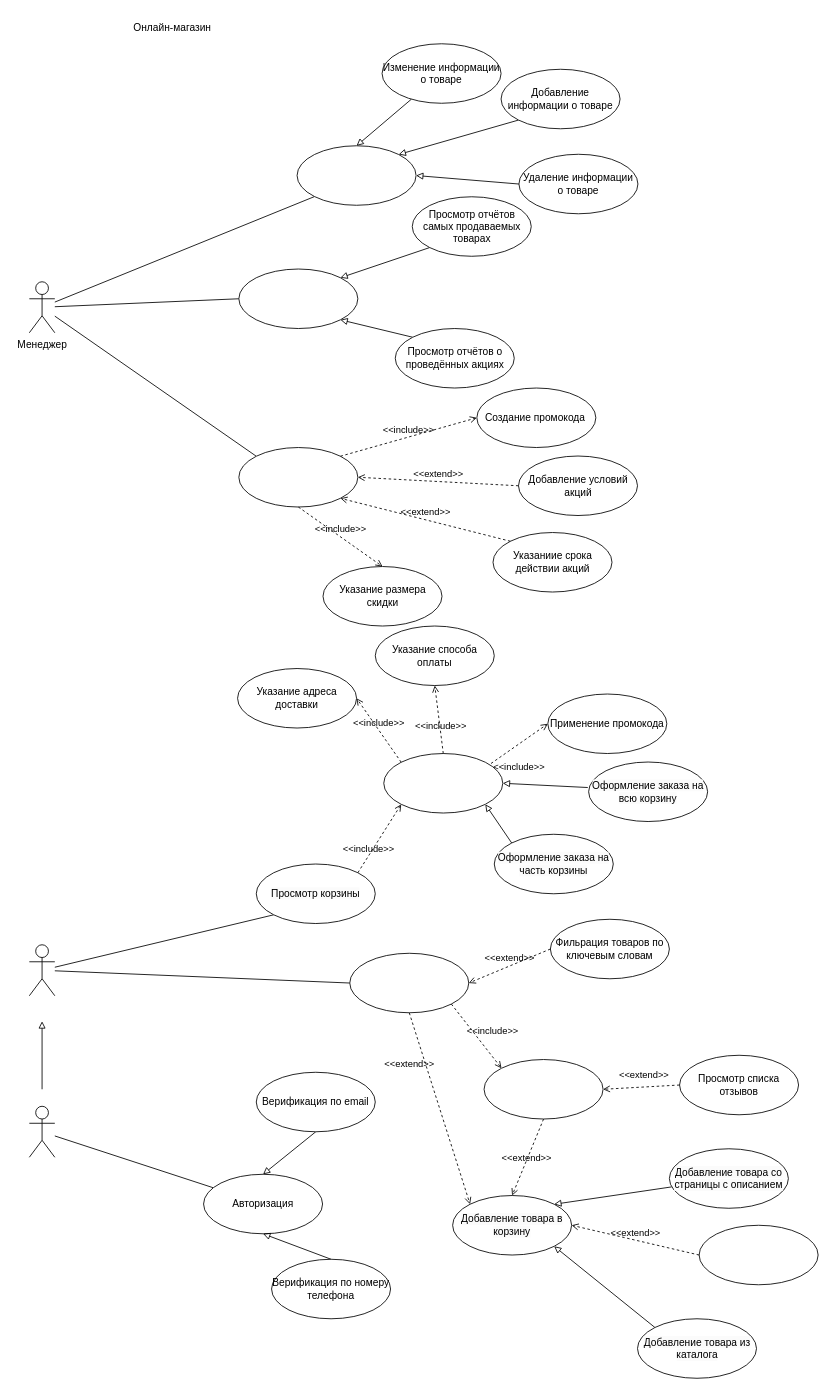
This 833x1393 diagram has some shape labels left out. The centre of each missing label's shape, as x and y in pixels:
Гость: (x=41, y=970)
Изменение количества единиц заказаного товара: (x=758, y=1254)
Оформление заказа: (x=443, y=783)
Покупатель: (x=41, y=1131)
Просмотр каталога товаров: (x=409, y=982)
Просмотр отчётов: (x=298, y=298)
Простмотр подробной информации о товаре: (x=543, y=1089)
Редактирование информации о товарах: (x=356, y=175)
Создание новых акций: (x=298, y=477)
